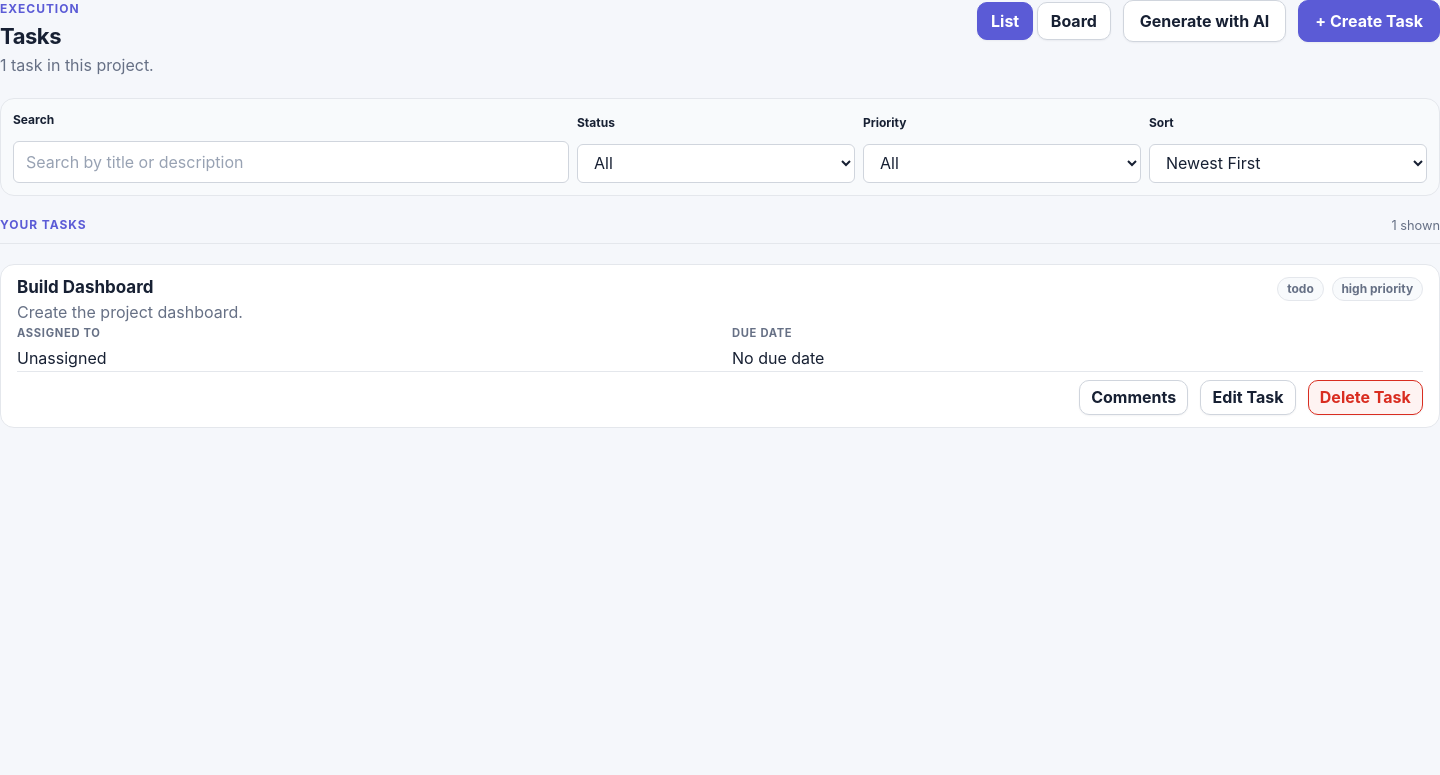
Test case: task comments read and create UI › posts trimmed content, appends the returned comment, and clears the input
Click the button with aria-label "View comments for Build Dashboard": (1134, 397) [1079,380,1188,414]
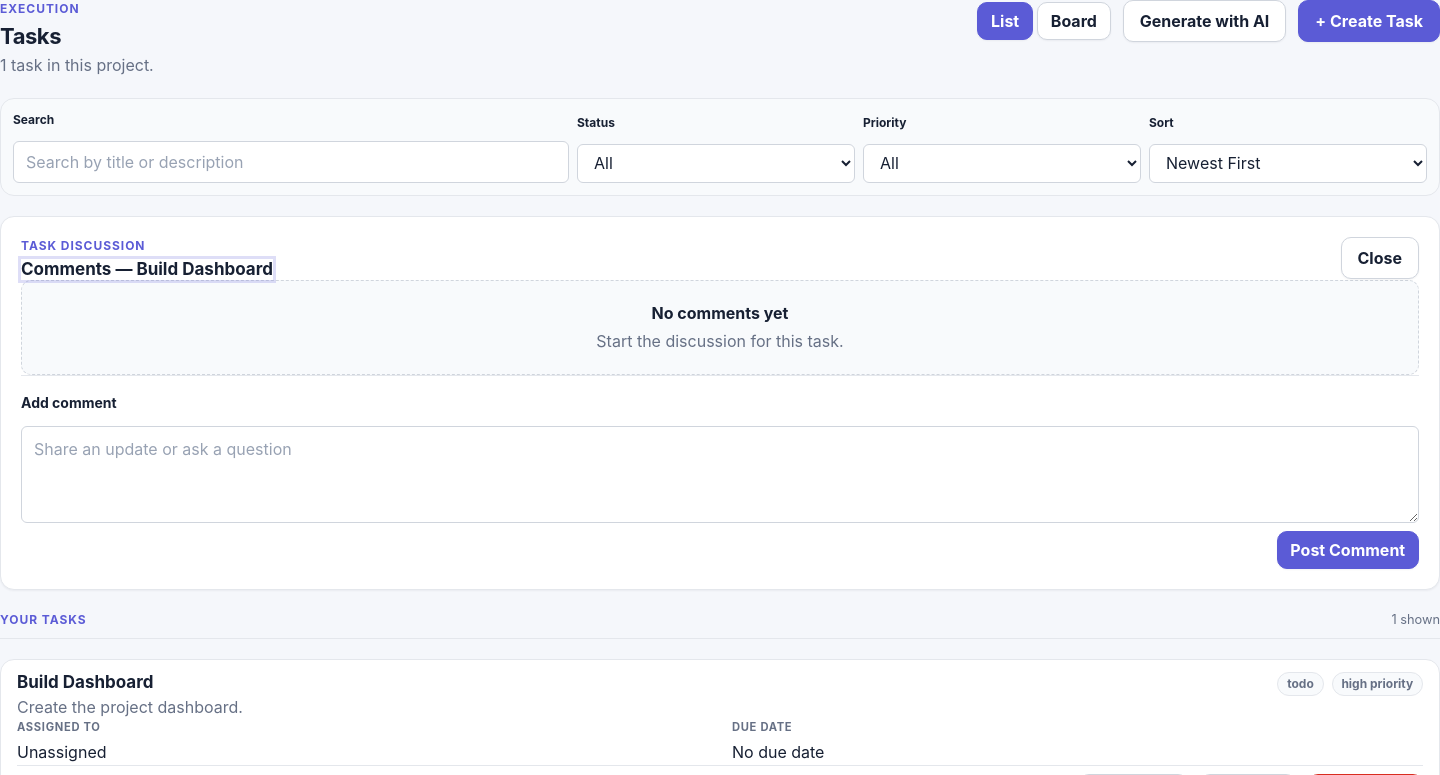
Expected: the text "No comments yet" is shown, [652,302,788,322]
In the text box labelled "Add comment": (720, 474) [21,426,1419,523], type "  Ready for review.  "
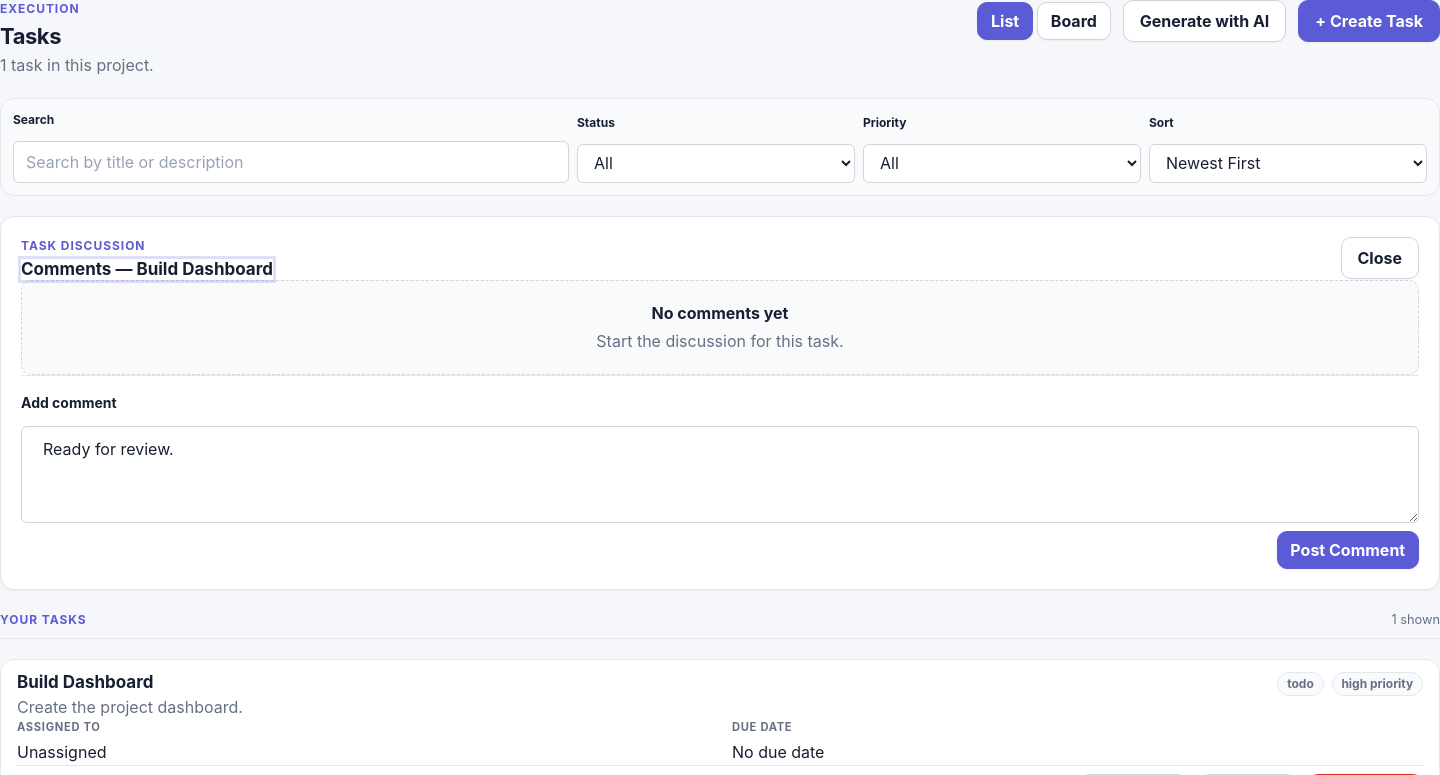
Click the button "Post Comment": (1348, 550) [1276,531,1419,569]
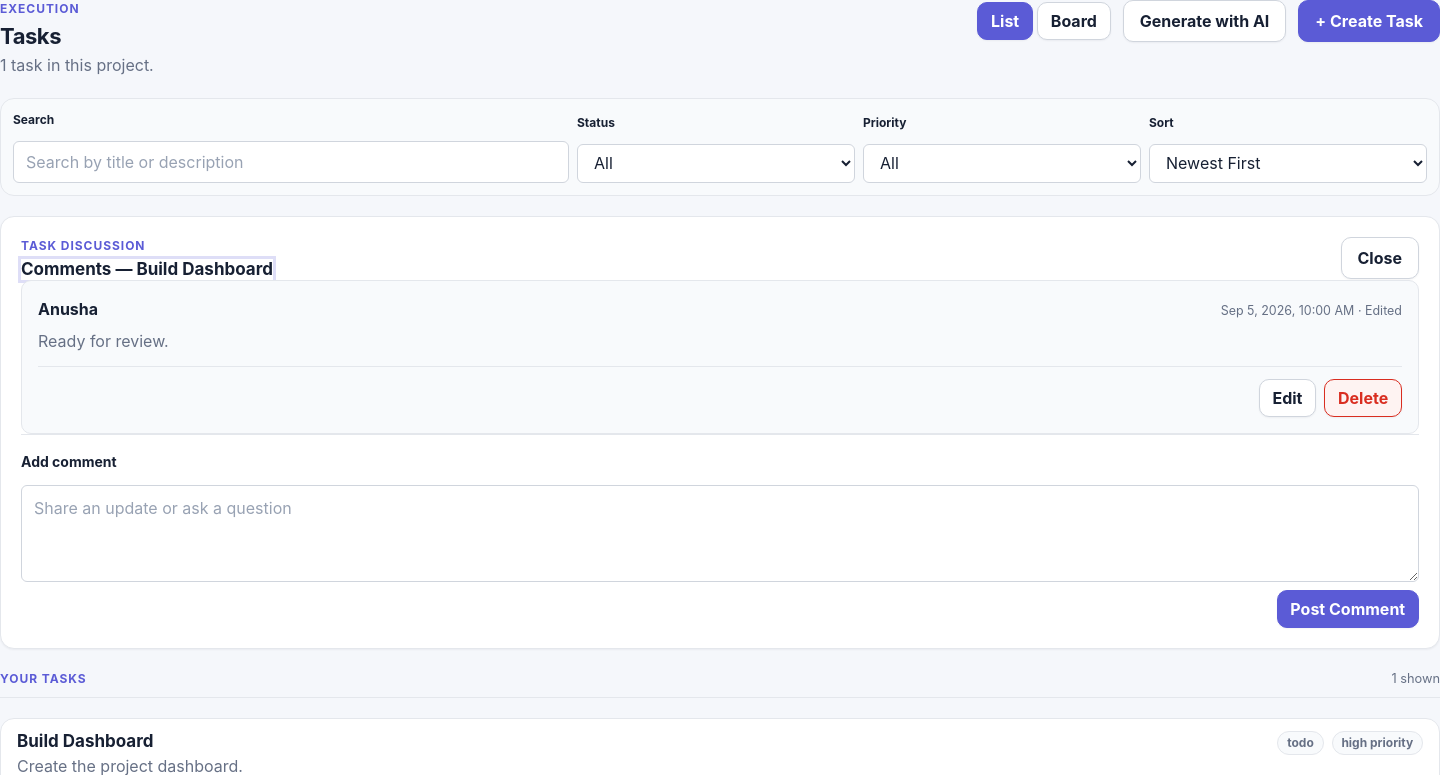
Expected: the text "Ready for review." is shown, [38,331,169,351]
Expected: the text box labelled "Add comment" is empty, [21,485,1419,582]
